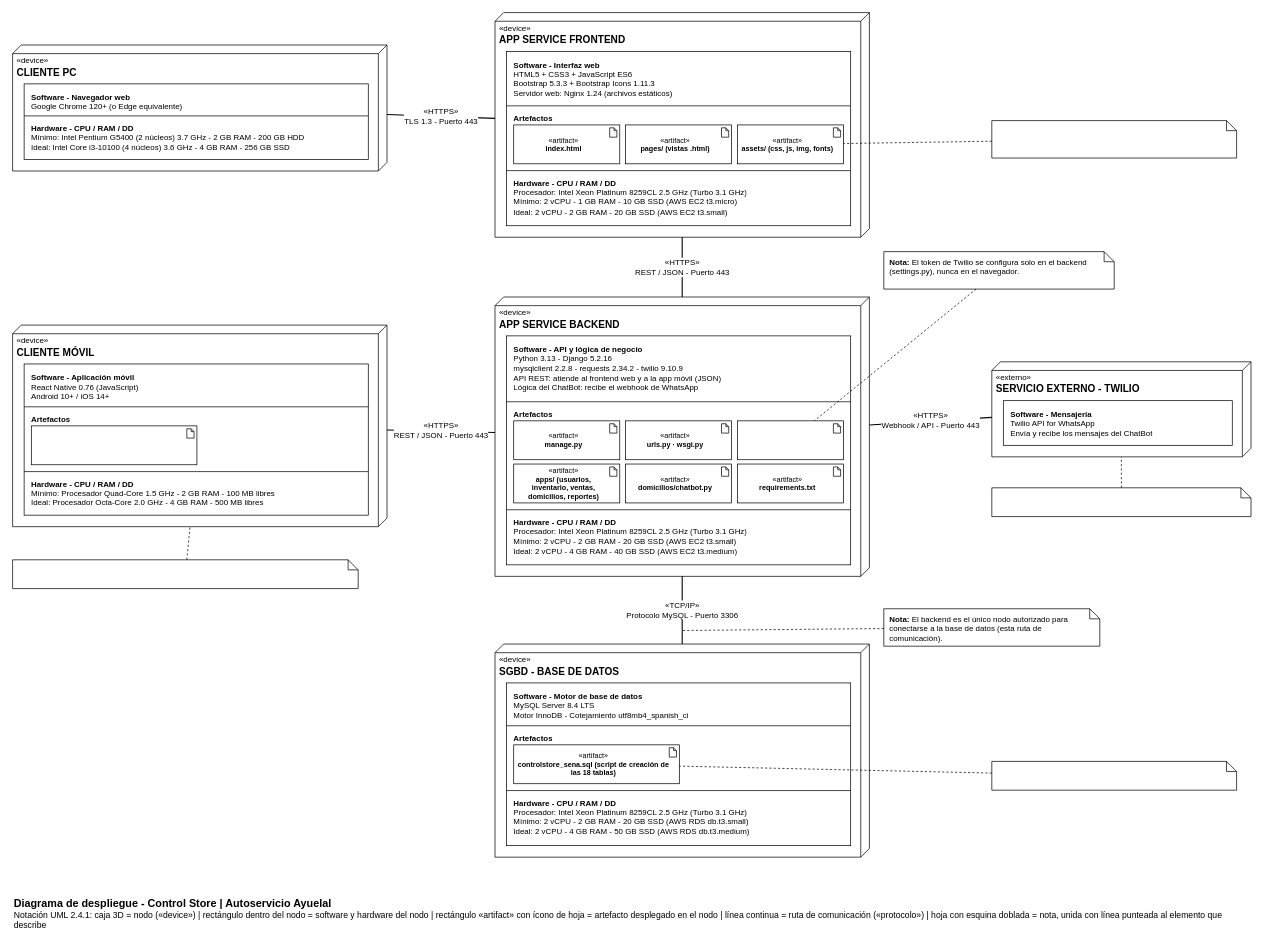
The diagram is 1264 pixels wide and 944 high, and some of its shapes have lost their labels. Each missing label, with the centre of its shape:
Nota: El frontend solo sirve archivos estáticos (HTML, CSS, JS e imágenes).: point 1114,139
Nota: Fase futura: la aplicación móvil no hace parte de la entrega actual.: point 185,574
Nota: Respaldo diario automatizado de este script y de los datos con mysqldump.: point 1114,775
Nota: Servicio de terceros, fuera de la infraestructura del proyecto.: point 1121,502
«artifact» control_store.apk: point 114,445
«artifact» settings.py: point 790,440
